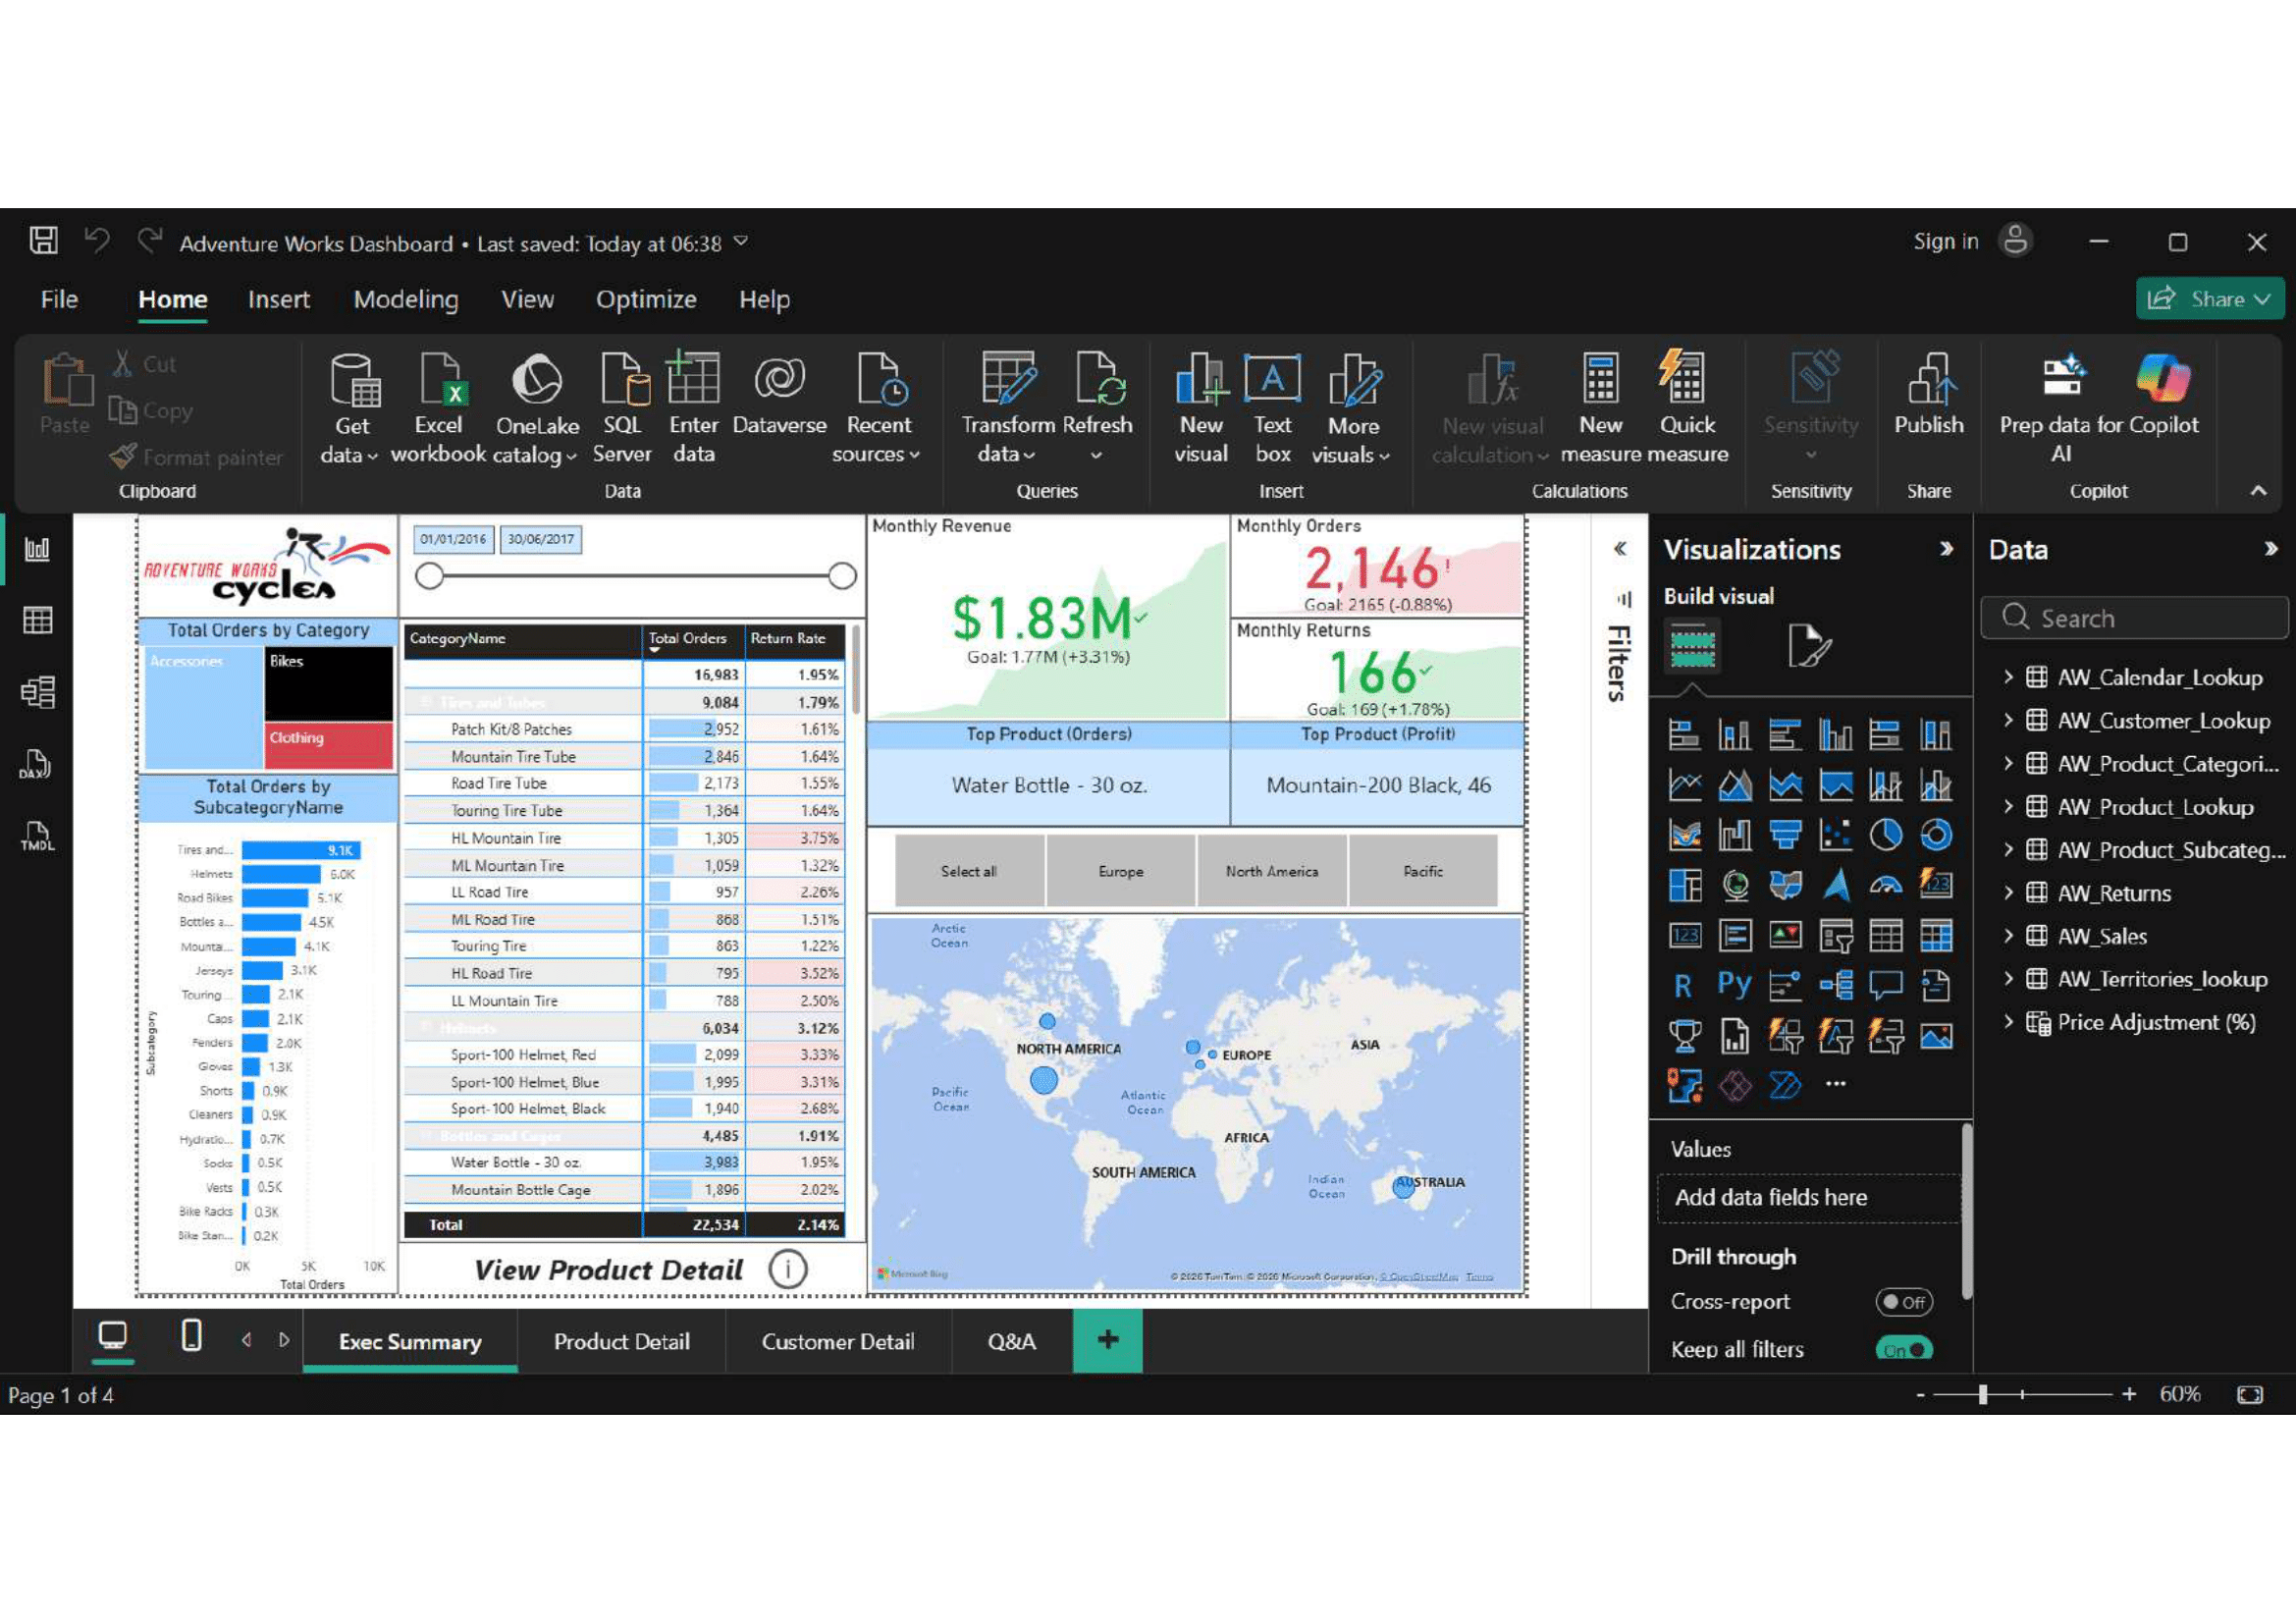

This screenshot's page, from the dashboard's own definition file:
{"tool":"powerbi","page":{"name":"Exec Dashboard","canvas":[1280,720],"ordinal":0},"visuals":[{"type":"shape","title":"Left Nav Background","box":[0,0,45,720],"z":0},{"type":"group","id":"g1","title":"KPI Backgrounds","box":[247.6,51.8,999.9,101.9],"z":0,"group":"g2"},{"type":"card","fields":{"Values":["Measures Table.Total Revenue"]},"box":[260.5,51.8,202.2,100.3],"z":0,"group":"g3"},{"type":"shape","box":[247.6,53.4,224.9,100.3],"z":0,"group":"g1"},{"type":"actionButton","box":[0,533.7,44.8,46.6],"z":0,"group":"g4"},{"type":"group","id":"g2","title":"KPIs","box":[247.6,51.8,999.9,101.9],"z":1000},{"type":"group","id":"g3","title":"KPI Values","box":[260.5,51.8,977.3,101.9],"z":1000,"group":"g2"},{"type":"shape","box":[764.3,51.8,224.9,100.3],"z":1000,"group":"g1"},{"type":"card","fields":{"Values":["Measures Table.Total Profit"]},"box":[518.8,52.3,202.2,100.3],"z":1000,"group":"g3"},{"type":"actionButton","box":[0,580.3,44.8,46.6],"z":1000,"group":"g4"},{"type":"image","title":"AW Logo","box":[45.3,0,202.2,212],"z":2000},{"type":"card","fields":{"Values":["Measures Table.Total Orders"]},"box":[777.2,52.9,202.2,100.3],"z":2000,"group":"g3"},{"type":"shape","box":[505.9,53.4,224.9,100.3],"z":2000,"group":"g1"},{"type":"actionButton","box":[0,626.8,44.8,46.6],"z":2000,"group":"g4"},{"type":"shape","box":[1022.6,51.8,224.9,100.3],"z":3000,"group":"g1"},{"type":"card","fields":{"Values":["Measures Table.Return Rate"]},"box":[1035.5,53.4,202.2,100.3],"z":3000,"group":"g3"},{"type":"lineChart","title":"Revenue Trending","fields":{"Y":["Measures Table.Total Revenue"],"Category":["Calendar Lookup.Year","Calendar Lookup.Start of Quarter","Calendar Lookup.Start of Month"]},"box":[80.9,171.5,595.4,377],"z":3000},{"type":"actionButton","box":[0,673.4,44.8,46.6],"z":3000,"group":"g4"},{"type":"kpi","title":"Monthly Revenue","fields":{"Indicator":["Measures Table.Total Revenue"],"TrendLine":["Calendar Lookup.Start of Month"],"Goal":["Measures Table.Previous Month Revenue"]},"box":[85.8,562,174.7,132.7],"z":4000},{"type":"kpi","title":"Monthly Orders","fields":{"TrendLine":["Calendar Lookup.Start of Month"],"Indicator":["Measures Table.Total Orders"],"Goal":["Measures Table.Previous Month Orders"]},"box":[287.2,562,174.7,132.7],"z":5000},{"type":"kpi","title":"Monthly Returns","fields":{"TrendLine":["Calendar Lookup.Start of Month"],"Indicator":["Measures Table.Total Returns"],"Goal":["Measures Table.Previous Month Returns"]},"box":[488.6,562,174.7,132.7],"z":6000},{"type":"clusteredBarChart","title":"Orders by Category","fields":{"Category":["Product Categories Lookup.CategoryName"],"Y":["Measures Table.Total Orders"]},"box":[731.3,212,516.1,190.9],"z":7000},{"type":"pivotTable","fields":{"Rows":["Product Lookup.ProductName"],"Values":["Measures Table.Total Orders","Measures Table.Total Revenue","Measures Table.Return Rate"]},"box":[721.6,402.9,504.8,145.6],"z":8000},{"type":"card","fields":{"Values":["Min(Product Subcategories Lookup.SubcategoryName)"]},"box":[721.6,603.5,205.5,48.5],"z":9000},{"type":"textbox","box":[721.8,574,194.3,29.6],"z":10000},{"type":"card","fields":{"Values":["Min(Product Subcategories Lookup.SubcategoryName)"]},"box":[1016.1,603.5,205.5,48.5],"z":11000},{"type":"textbox","box":[1016.4,574,193.4,29.6],"z":12000},{"type":"actionButton","box":[0,0,44.8,43],"z":13000},{"type":"group","id":"g4","title":"Navigation Buttons","box":[0,533.7,44.8,186.3],"z":14000},{"type":"actionButton","box":[0,43,45.7,41.2],"z":15000}]}

Visuals, with their boxes on the page's 1280x720 design canvas (x1, y1, x2, y2). These are canvas units, not pixel positions in the 2296x1623 screenshot, which may show the page scaled, cropped or inside an application window:
"Left Nav Background" shape: <box>0,0,45,720</box>
"KPI Backgrounds" group: <box>248,52,1248,154</box>
card - Measures Table.Total Revenue: <box>260,52,463,152</box>
shape: <box>248,53,472,154</box>
actionButton: <box>0,534,45,580</box>
"KPIs" group: <box>248,52,1248,154</box>
"KPI Values" group: <box>260,52,1238,154</box>
shape: <box>764,52,989,152</box>
card - Measures Table.Total Profit: <box>519,52,721,153</box>
actionButton: <box>0,580,45,627</box>
"AW Logo" image: <box>45,0,248,212</box>
card - Measures Table.Total Orders: <box>777,53,979,153</box>
shape: <box>506,53,731,154</box>
actionButton: <box>0,627,45,673</box>
shape: <box>1023,52,1248,152</box>
card - Measures Table.Return Rate: <box>1036,53,1238,154</box>
"Revenue Trending" lineChart: <box>81,172,676,548</box>
actionButton: <box>0,673,45,720</box>
"Monthly Revenue" kpi: <box>86,562,260,695</box>
"Monthly Orders" kpi: <box>287,562,462,695</box>
"Monthly Returns" kpi: <box>489,562,663,695</box>
"Orders by Category" clusteredBarChart: <box>731,212,1247,403</box>
pivotTable - Product Lookup.ProductName x Measures Table.Total Orders: <box>722,403,1226,548</box>
card - Min(Product Subcategories Lookup.SubcategoryName): <box>722,604,927,652</box>
textbox: <box>722,574,916,604</box>
card - Min(Product Subcategories Lookup.SubcategoryName): <box>1016,604,1222,652</box>
textbox: <box>1016,574,1210,604</box>
actionButton: <box>0,0,45,43</box>
"Navigation Buttons" group: <box>0,534,45,720</box>
actionButton: <box>0,43,46,84</box>
